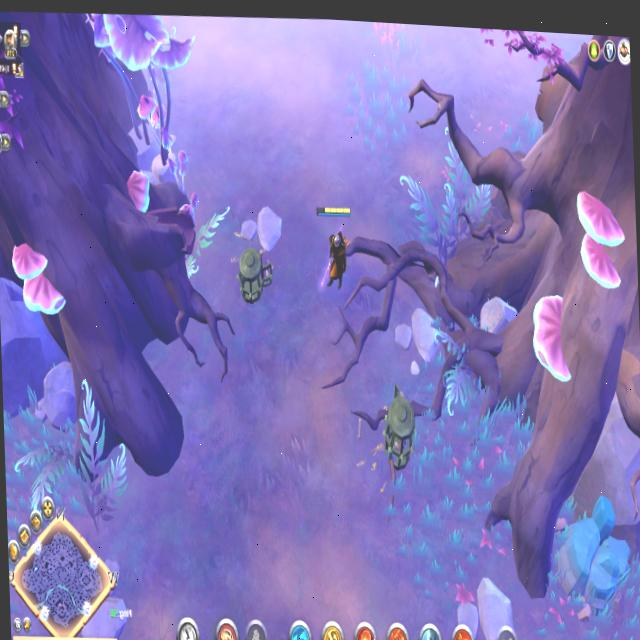red: (312, 196, 359, 299)
